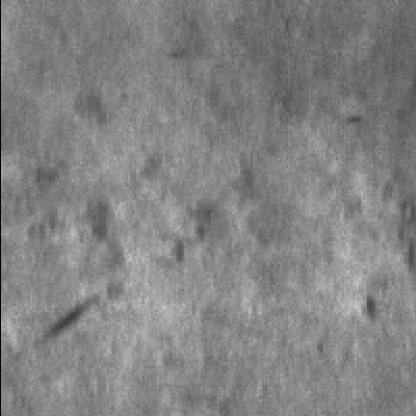rolled-in_scale: (141, 156, 276, 281), (60, 134, 188, 256), (337, 172, 412, 318), (16, 189, 114, 289)
